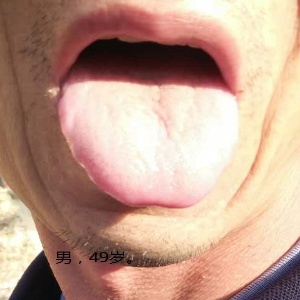st: (55, 84, 245, 210)
